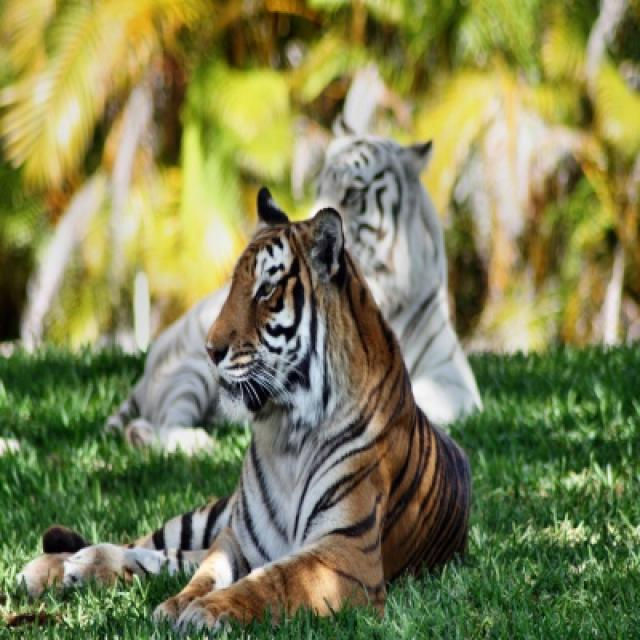Tiger: (22, 191, 477, 634)
